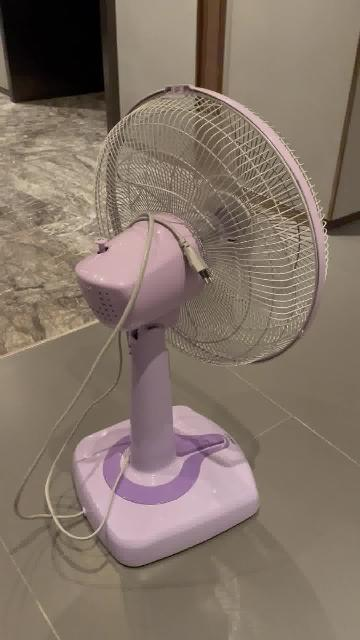Fan: (72, 86, 327, 571)
